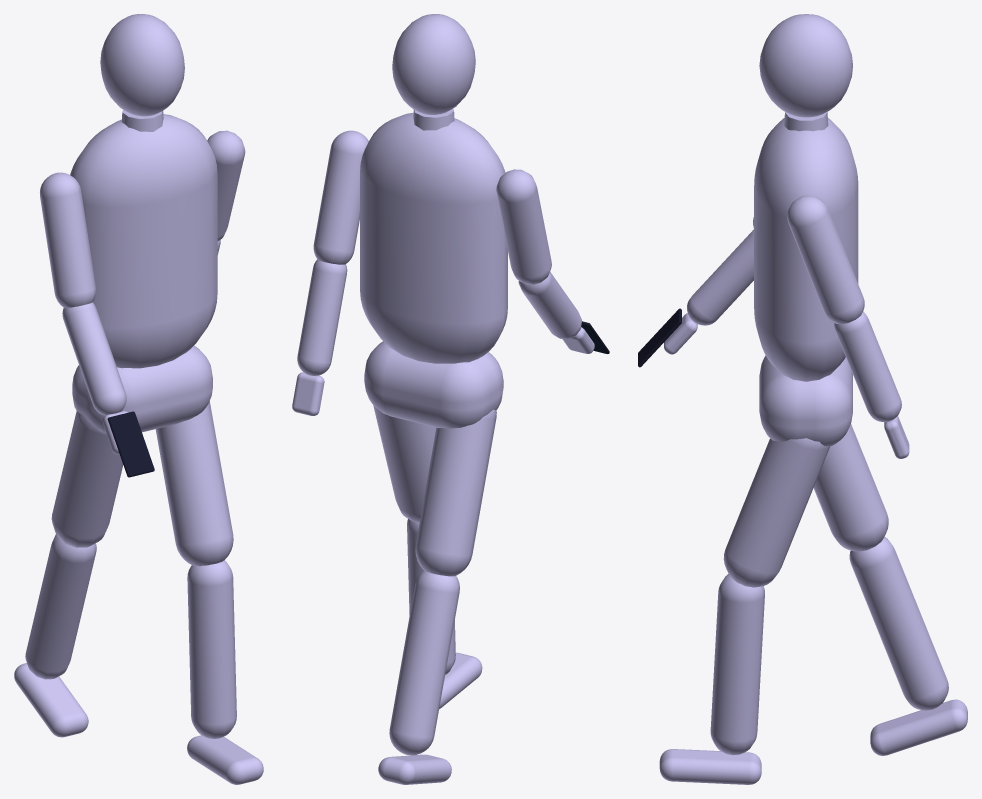
The model's file is mannequin-walk.glb.
3 renders of one model, left to right at view 1: azimuth 30°, elevation 25°; view 2: azimuth 150°, elevation 25°; view 3: azimuth 270°, elevation 25°, orthographic. The views are drawn at different scales.
Visible parts, largest first — view 1: chest, thighL, shinL, headMesh, thighR, pelvis, shinR, upperArmR, foreArmR, footR, footL, upperArmL (+2 smaller); view 2: chest, thighR, pelvis, shinR, headMesh, upperArmL, upperArmR, thighL, foreArmL, foreArmR, footR, footL (+3 smaller); view 3: chest, thighL, shinR, shinL, headMesh, pelvis, thighR, upperArmL, foreArmL, footL, footR, foreArmR (+4 smaller).
Boxes of the visible parts, bbox=[...] form: chest: bbox=[70, 114, 217, 368]; thighL: bbox=[155, 401, 233, 566]; shinL: bbox=[187, 560, 236, 738]; headMesh: bbox=[100, 14, 184, 116]; thighR: bbox=[51, 411, 123, 547]; pelvis: bbox=[72, 345, 212, 433]; shinR: bbox=[25, 534, 96, 679]; upperArmR: bbox=[40, 172, 95, 308]; foreArmR: bbox=[62, 302, 126, 415]; footR: bbox=[14, 663, 88, 737]; footL: bbox=[187, 735, 263, 784]; upperArmL: bbox=[207, 130, 245, 240]; chest: bbox=[360, 112, 507, 363]; thighR: bbox=[415, 409, 496, 576]; pelvis: bbox=[364, 341, 503, 428]; shinR: bbox=[389, 570, 459, 755]; headMesh: bbox=[392, 14, 475, 114]; upperArmL: bbox=[313, 130, 368, 264]; upperArmR: bbox=[496, 169, 551, 284]; thighL: bbox=[373, 405, 436, 523]; foreArmL: bbox=[297, 259, 347, 375]; foreArmR: bbox=[518, 271, 581, 338]; footR: bbox=[378, 754, 451, 784]; footL: bbox=[439, 652, 482, 709]; chest: bbox=[754, 118, 858, 381]; thighL: bbox=[723, 438, 829, 587]; shinR: bbox=[849, 536, 948, 710]; shinL: bbox=[710, 574, 764, 755]; headMesh: bbox=[759, 14, 852, 117]; pelvis: bbox=[759, 355, 852, 446]; thighR: bbox=[813, 424, 888, 551]; upperArmL: bbox=[787, 195, 864, 324]; foreArmL: bbox=[834, 311, 901, 422]; footL: bbox=[659, 749, 761, 784]; footR: bbox=[870, 699, 967, 755]; foreArmR: bbox=[687, 229, 753, 325].
Size of the model in its own units: 0.56 by 1.95 by 0.7746.
